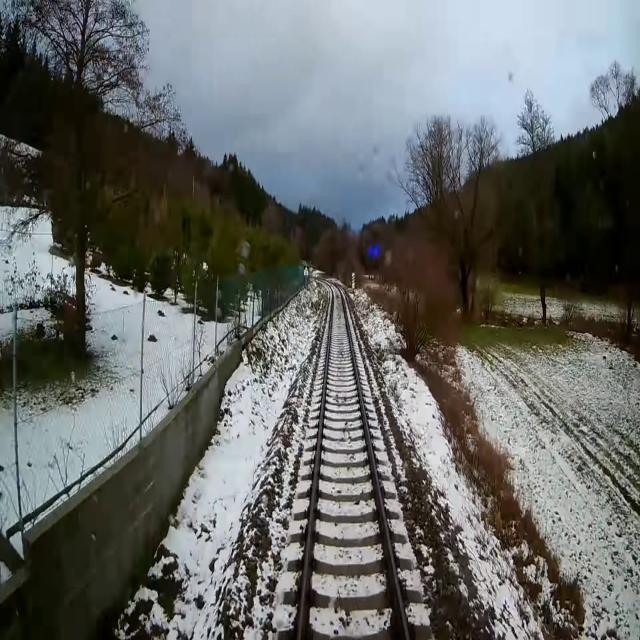rail-track: (302, 283, 405, 639)
